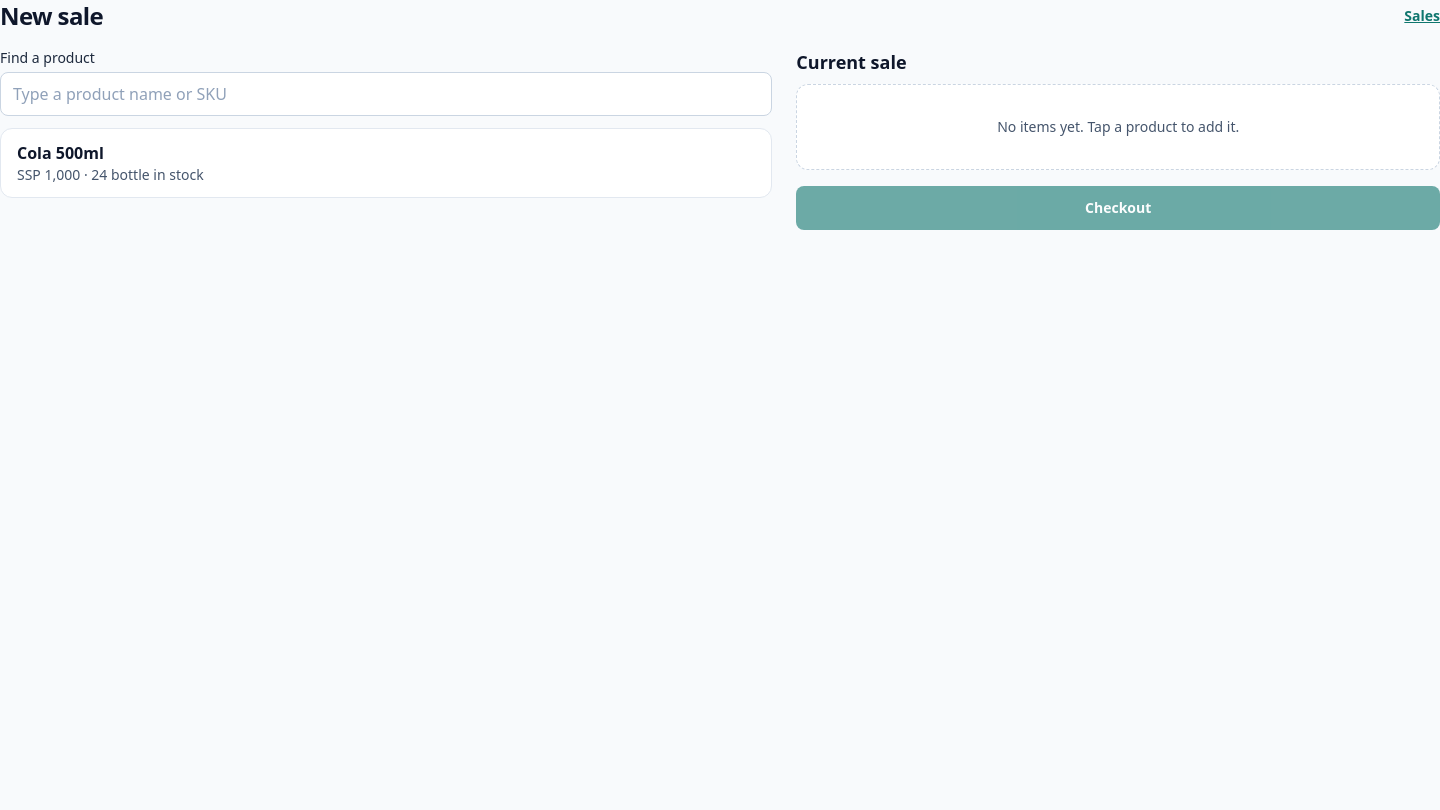
Test case: NewSalePage › shows the server's stock message and keeps the cart
Click the button "Cola 500ml SSP 1,000 · 24 bottle in stock" at (60, 153), box [1, 129, 771, 197]
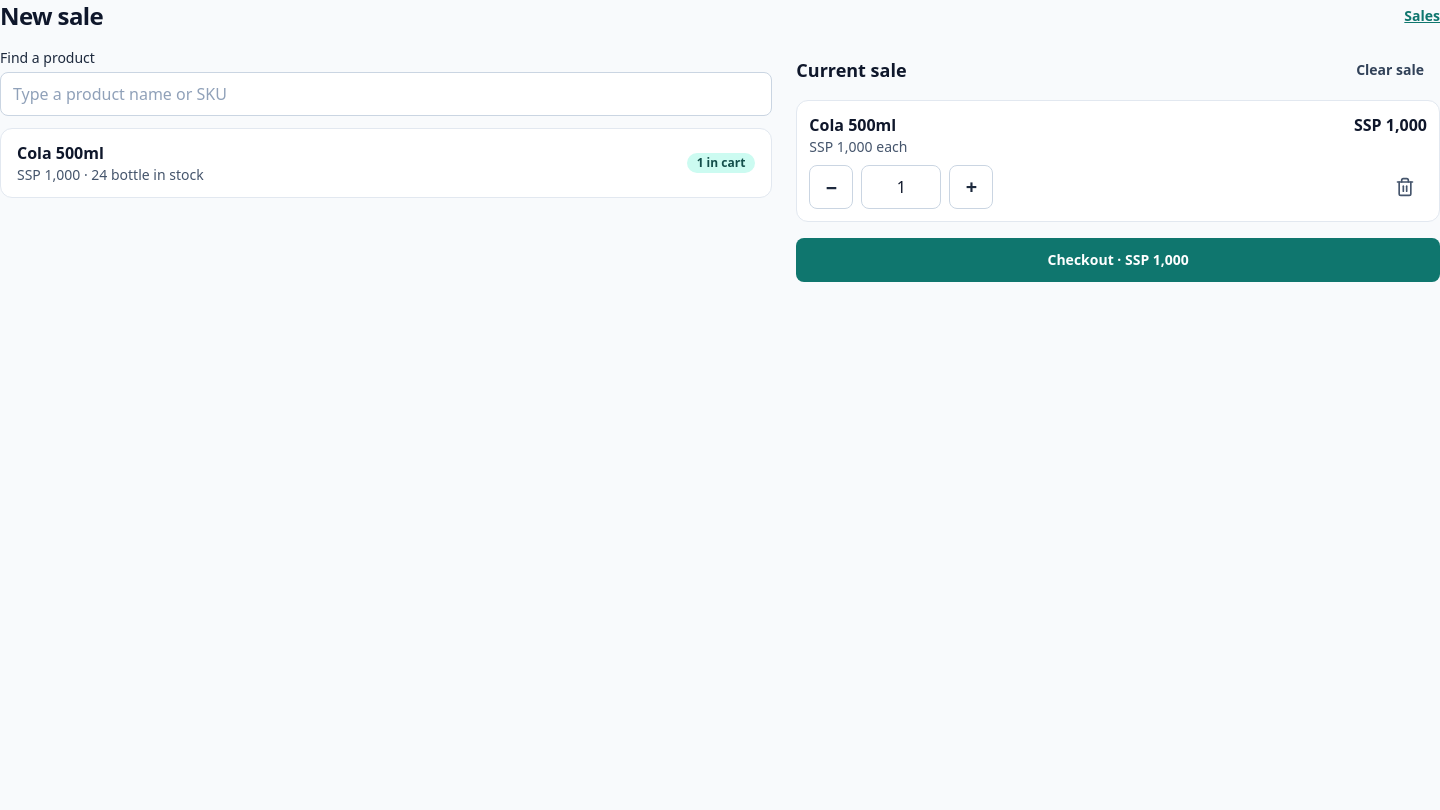
Click the button "Checkout · SSP 1,000" at (1118, 260), box [796, 238, 1439, 282]
(page scrolled)
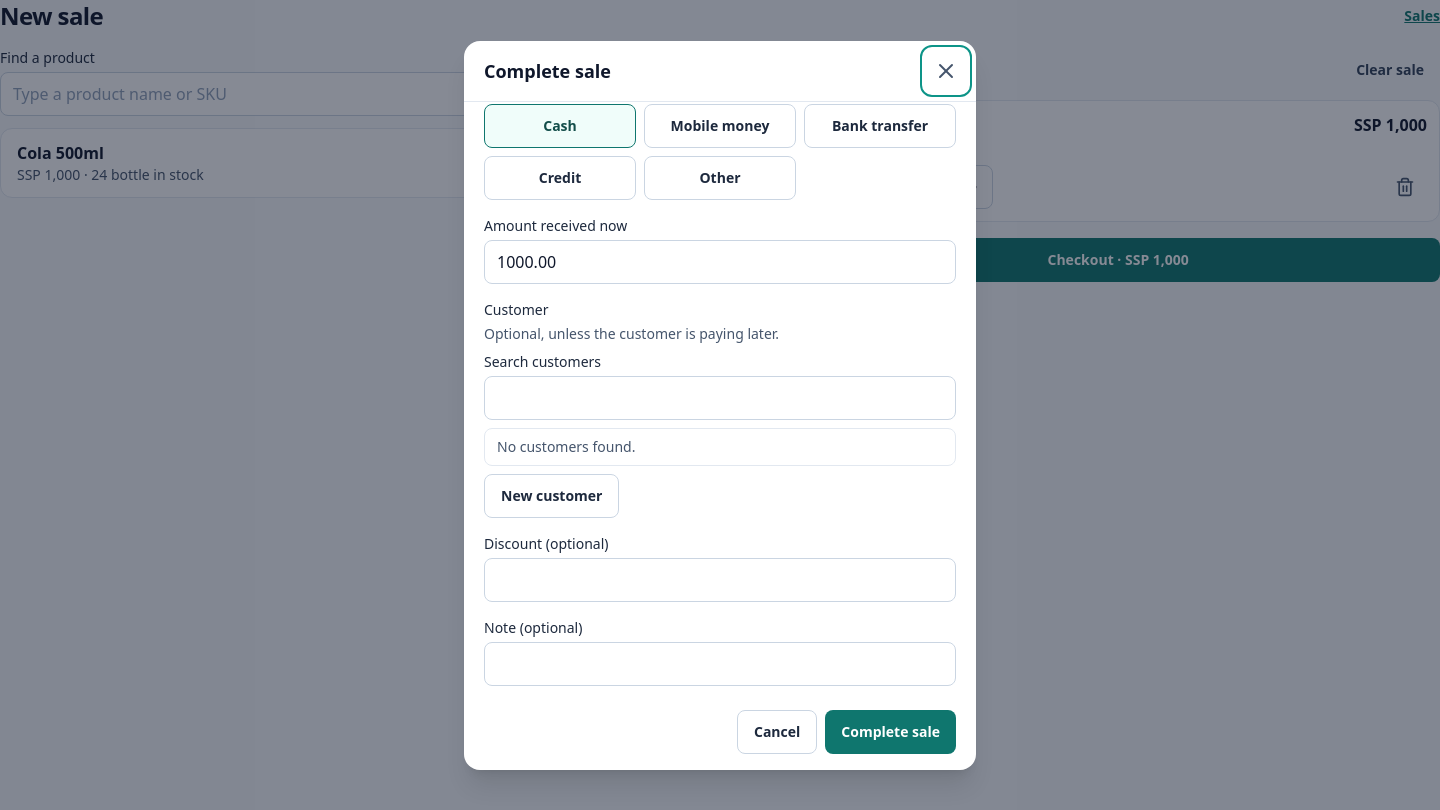
Click the button "Complete sale" at (891, 732), box [825, 710, 956, 754]
(page scrolled)
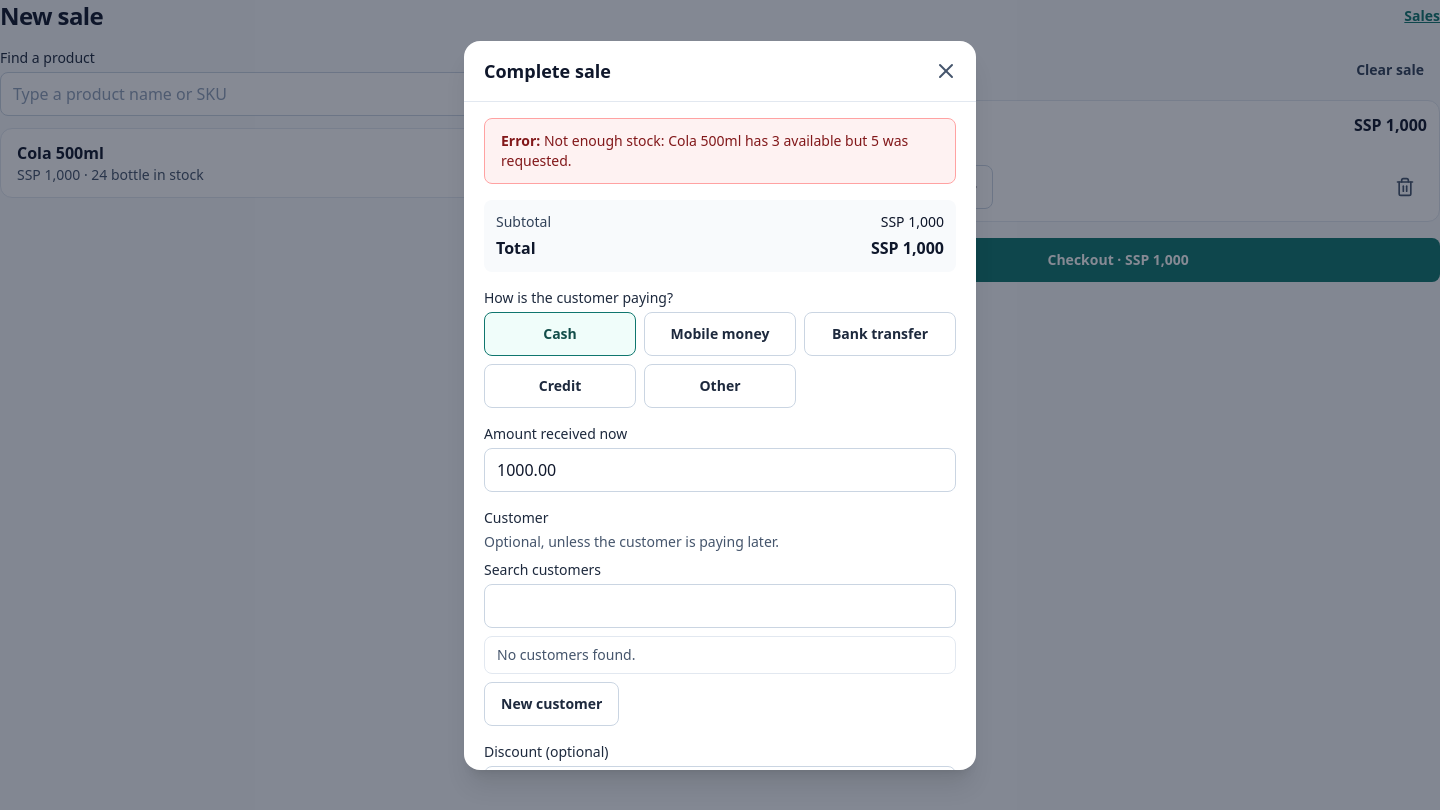
Result: the text "Error: Not enough stock: Cola 500ml has 3 available but 5 was requested." is shown at [484, 118, 956, 184]
